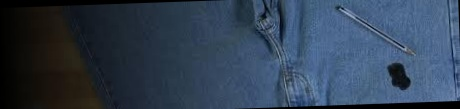ink: (387, 62, 410, 89)
